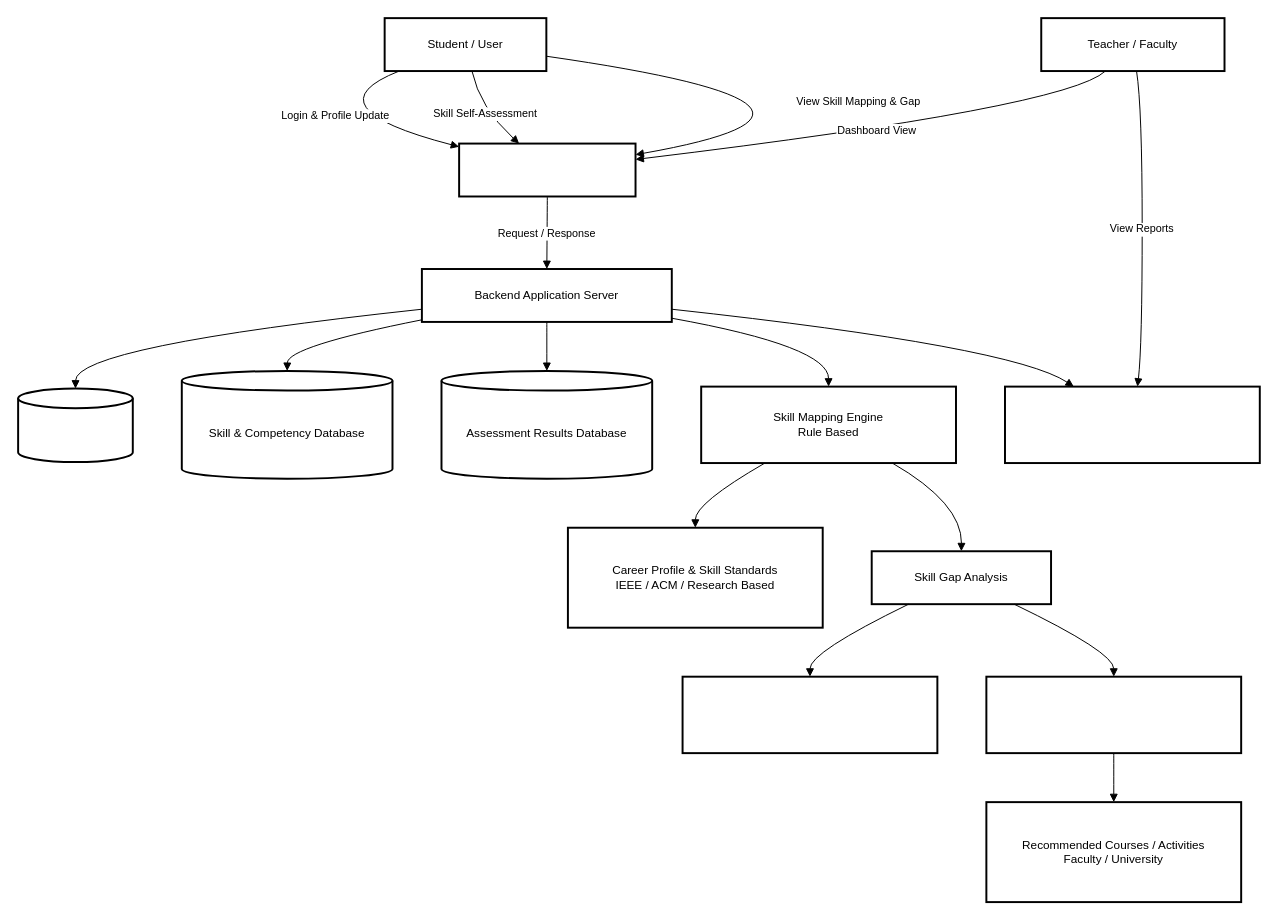
Some shapes in this 1277 by 919 pixel diagram are drawn without their labels. Each missing label, with the centre of its shape:
"Faculty Dashboard & Analytics" belongs at point (1132, 424).
"Skill Development Pathway Engine" belongs at point (1113, 714).
"Skill Visualization Module Radar / Bar Chart" belongs at point (809, 714).
"User Database" belongs at point (75, 425).
"Web Frontend UI" belongs at point (547, 169).
